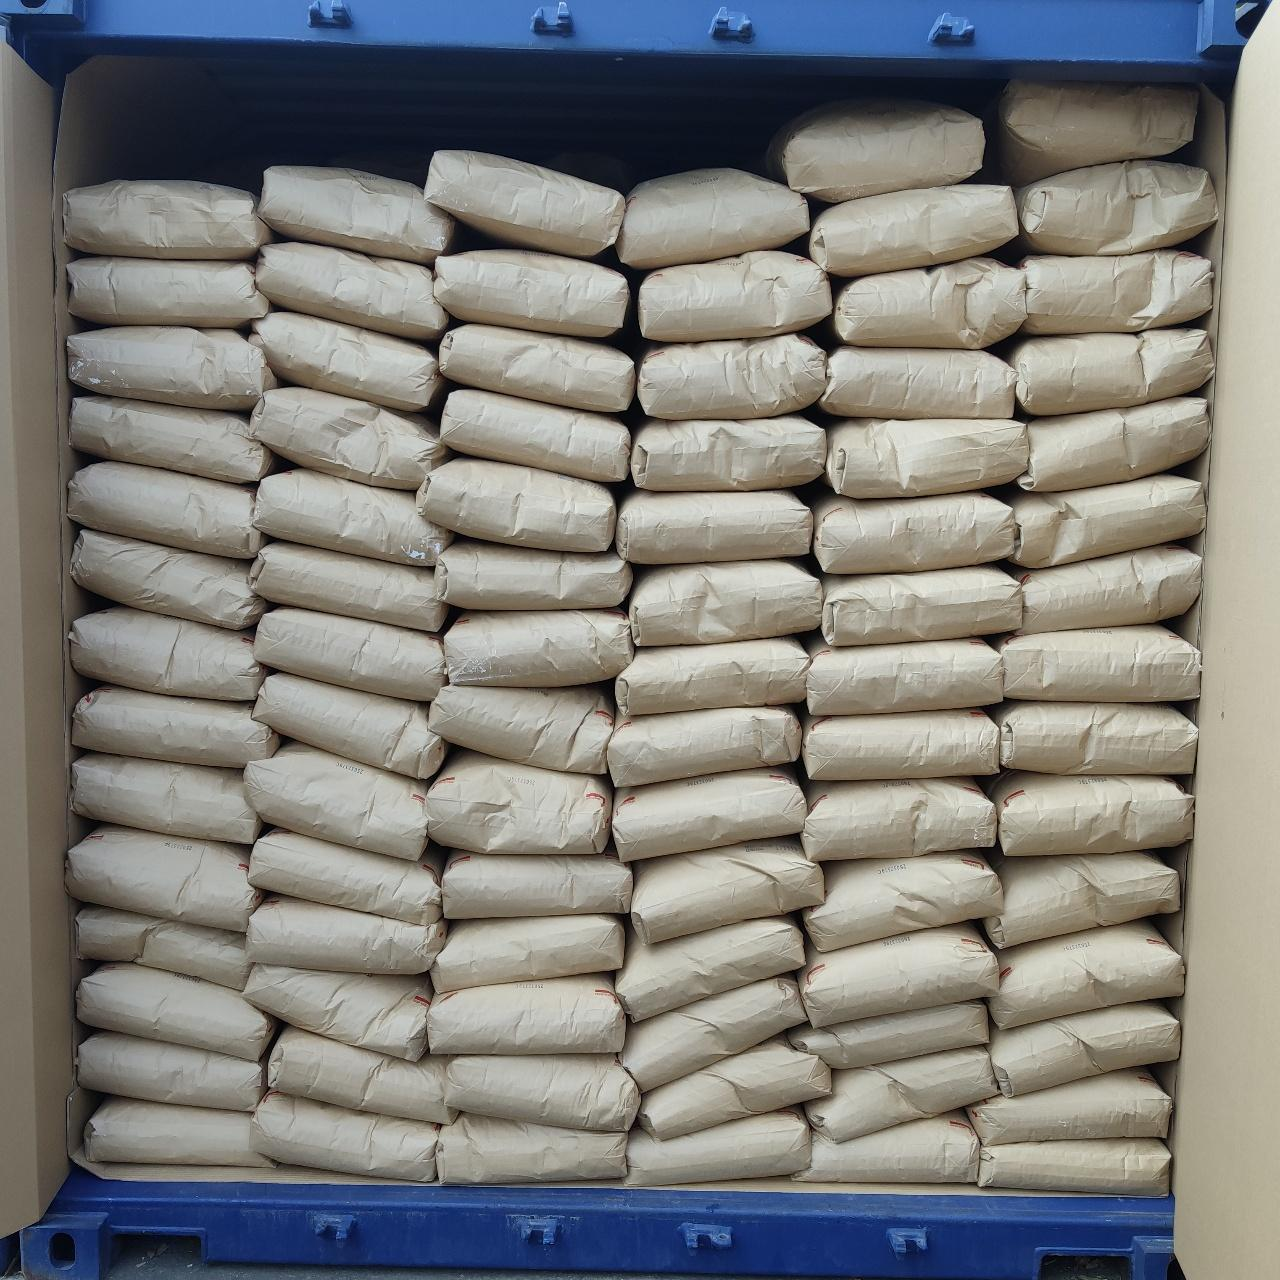sack: (766, 100, 984, 203), (245, 742, 427, 859), (988, 921, 1182, 1029), (999, 80, 1199, 184), (425, 151, 623, 256), (799, 923, 998, 1027), (66, 826, 260, 932), (250, 387, 449, 490), (621, 977, 801, 1090), (803, 850, 1002, 952), (631, 838, 823, 943), (616, 916, 804, 1021), (640, 1036, 830, 1139), (71, 530, 266, 630), (616, 168, 810, 268), (1015, 160, 1218, 255), (253, 674, 438, 777), (809, 185, 1018, 276), (254, 469, 452, 565), (259, 166, 454, 263), (251, 312, 443, 410), (417, 457, 615, 552), (985, 852, 1179, 948), (78, 965, 272, 1060), (426, 753, 610, 853), (256, 243, 447, 339), (68, 462, 260, 557), (248, 830, 442, 924), (244, 964, 432, 1060), (612, 768, 806, 861), (1009, 475, 1205, 567), (269, 1027, 458, 1122), (70, 607, 263, 700), (1006, 328, 1212, 415), (989, 1002, 1179, 1096), (1019, 397, 1209, 491), (831, 258, 1027, 349), (254, 607, 447, 699), (807, 1047, 997, 1140), (638, 251, 831, 342), (251, 542, 448, 631), (68, 326, 275, 410), (442, 389, 630, 481), (71, 396, 270, 482), (988, 773, 1193, 856), (71, 687, 279, 768), (72, 753, 259, 843), (439, 324, 632, 411), (629, 560, 822, 646), (251, 1091, 436, 1180), (434, 252, 629, 336), (428, 685, 613, 773), (637, 334, 826, 420), (812, 492, 1012, 573), (1017, 546, 1201, 634), (1021, 250, 1212, 334), (65, 181, 270, 259), (802, 778, 994, 861), (827, 419, 1028, 498), (246, 895, 446, 974), (967, 1068, 1171, 1145), (822, 566, 1020, 645), (427, 975, 624, 1053), (441, 1054, 640, 1131), (998, 625, 1199, 701), (608, 707, 800, 786), (615, 637, 809, 715), (431, 915, 624, 992), (630, 414, 825, 490), (807, 638, 1002, 714), (993, 702, 1196, 775), (76, 907, 251, 990), (616, 490, 812, 564), (819, 346, 1014, 420), (445, 611, 633, 687), (79, 1032, 262, 1110), (67, 257, 268, 327), (626, 1109, 811, 1185), (436, 539, 632, 609), (801, 710, 999, 779), (792, 999, 988, 1067), (792, 1111, 977, 1182), (442, 850, 631, 919), (436, 1115, 627, 1183), (85, 1098, 266, 1166), (977, 1139, 1168, 1196)
